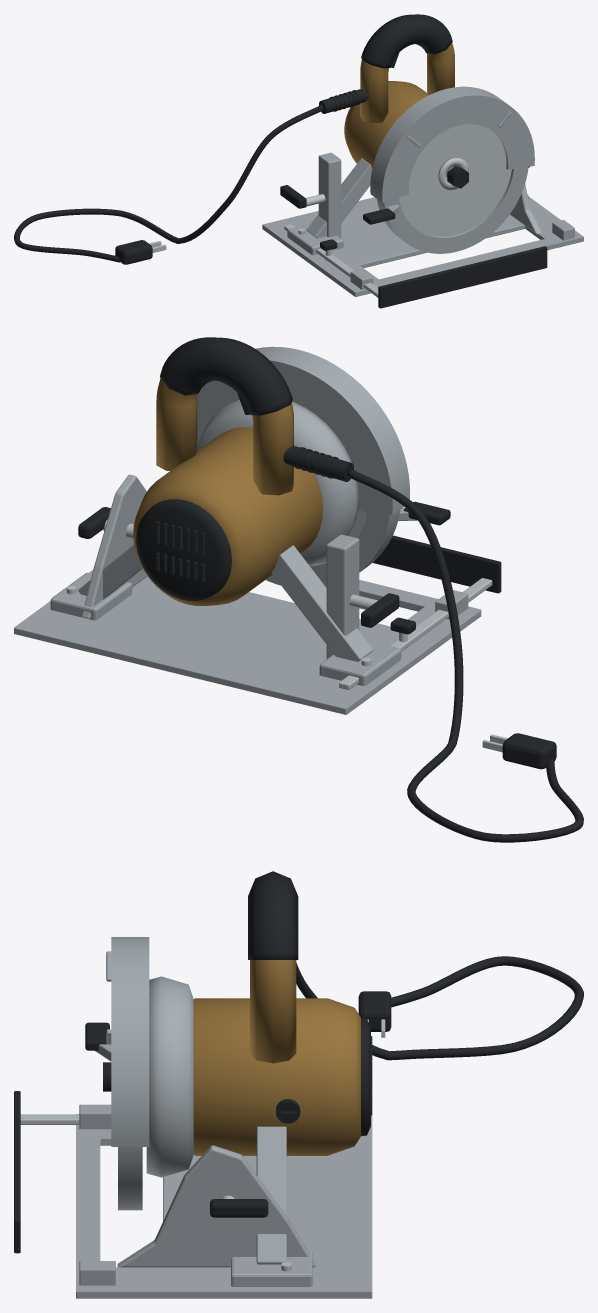
The picture shows the model from 3 angles, top to bottom: view 1: azimuth 30°, elevation 25°; view 2: azimuth 150°, elevation 25°; view 3: azimuth 270°, elevation 25°; orthographic projection. The views are drawn at different scales.
Visible parts, largest first — view 1: Original24 tooth circular blade, Upper fixed U section guard, One piece open aperture shoe, Rip fence perpendicular guide, Lower closed crescent U guard, Attached original static cord, Rubber upper handgrip, Transverse motor housing, Molded open handle frame, Rear depth adjustment upright, Body to shoe support -1, Shoe support foot -1 (+5 smaller); view 2: One piece open aperture shoe, Transverse motor housing, Upper fixed U section guard, Motor rear end cover, Molded open handle frame, Rubber upper handgrip, Attached original static cord, Rear gearbox housing, Body to shoe support -1, Rip fence perpendicular guide, Front bevel upright, Rear depth adjustment upright (+8 smaller); view 3: Transverse motor housing, One piece open aperture shoe, Front bevel upright, Rear gearbox housing, Upper fixed U section guard, Molded open handle frame, Attached original static cord, Rubber upper handgrip, Body to shoe support 1, Shoe support foot 1, Lower closed crescent U guard, Generic plug body (+7 smaller).
Part boxes in pixels (box(x1,y1,x2,y2)): Original24 tooth circular blade: box(399, 124, 511, 236); Upper fixed U section guard: box(370, 86, 534, 202); One piece open aperture shoe: box(262, 196, 583, 296); Rip fence perpendicular guide: box(378, 246, 547, 308); Lower closed crescent U guard: box(377, 167, 528, 253); Attached original static cord: box(14, 105, 323, 262); Rubber upper handgrip: box(361, 14, 452, 68); Transverse motor housing: box(344, 81, 427, 167); Molded open handle frame: box(360, 43, 454, 123); Rear depth adjustment upright: box(318, 152, 341, 238); Body to shoe support -1: box(306, 158, 372, 238); Shoe support foot -1: box(287, 224, 343, 255); One piece open aperture shoe: box(14, 570, 481, 714); Transverse motor housing: box(133, 427, 322, 605); Upper fixed U section guard: box(197, 346, 409, 515); Motor rear end cover: box(136, 499, 231, 600); Molded open handle frame: box(156, 378, 293, 495); Rubber upper handgrip: box(160, 337, 292, 415); Attached original static cord: box(347, 469, 583, 842); Rear gearbox housing: box(197, 400, 358, 566); Body to shoe support -1: box(271, 545, 373, 661); Rip fence perpendicular guide: box(373, 535, 501, 593); Front bevel upright: box(82, 474, 147, 618); Rear depth adjustment upright: box(326, 534, 359, 658); Transverse motor housing: box(193, 998, 360, 1155); One piece open aperture shoe: box(76, 1114, 372, 1298); Front bevel upright: box(117, 1145, 315, 1267); Rear gearbox housing: box(146, 976, 193, 1177); Upper fixed U section guard: box(111, 937, 149, 1146); Molded open handle frame: box(250, 960, 296, 1063); Attached original static cord: box(296, 956, 583, 1060); Rubber upper handgrip: box(248, 871, 298, 959); Body to shoe support 1: box(256, 1126, 286, 1264); Shoe support foot 1: box(231, 1251, 312, 1286); Lower closed crescent U guard: box(118, 1147, 142, 1210); Generic plug body: box(358, 991, 391, 1031).
Size of the model in its own units: 0.5829 by 0.2685 by 0.4191.
